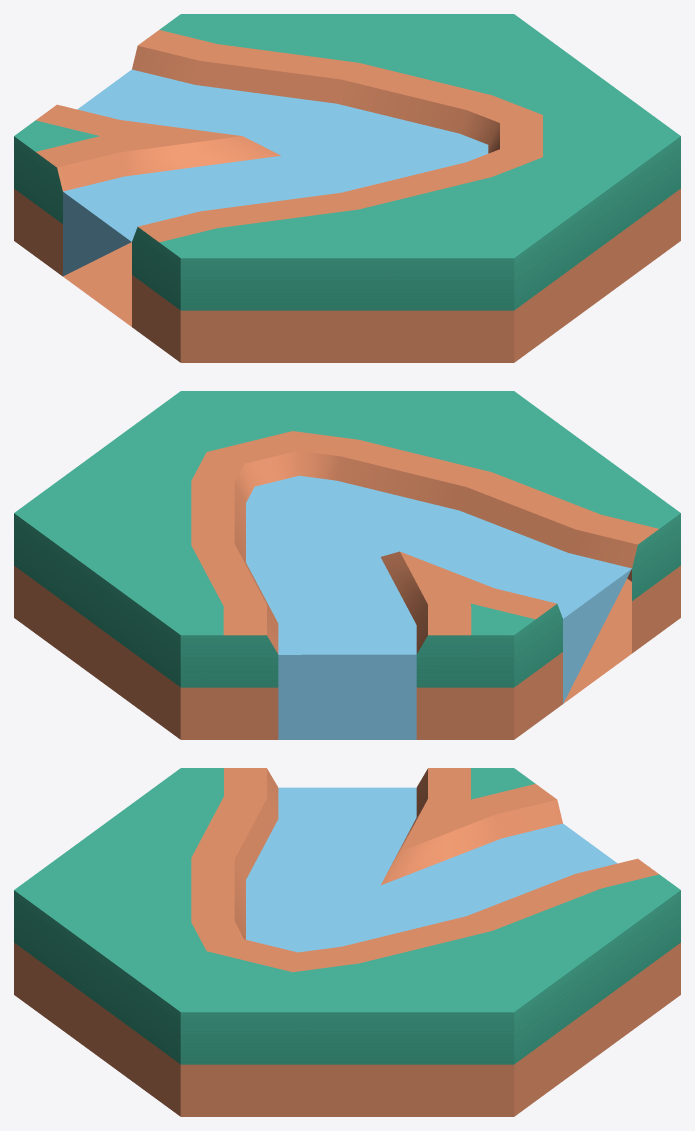
Rendered from river-corner-sharp.glb.
3 renders of one model, top to bottom at view 1: azimuth 30°, elevation 25°; view 2: azimuth 150°, elevation 25°; view 3: azimuth 270°, elevation 25°, orthographic.
Parts seen in each view (by area): view 1: river-corner-sharp; view 2: river-corner-sharp; view 3: river-corner-sharp.
Part boxes in pixels (x1=…): river-corner-sharp: x1=14, y1=14, x2=680, y2=362; river-corner-sharp: x1=14, y1=391, x2=680, y2=739; river-corner-sharp: x1=14, y1=768, x2=680, y2=1116.
Size of the model in its own units: 1 by 0.2 by 1.15.
1 material, 1 textured.
